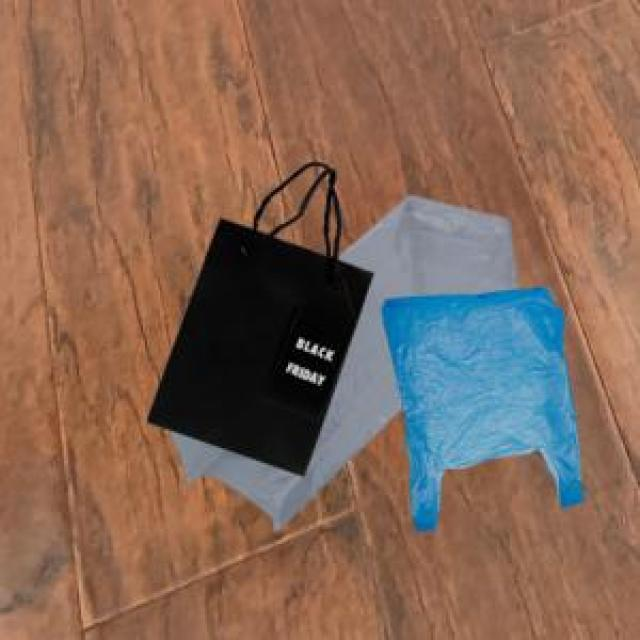paper: (143, 158, 369, 472)
